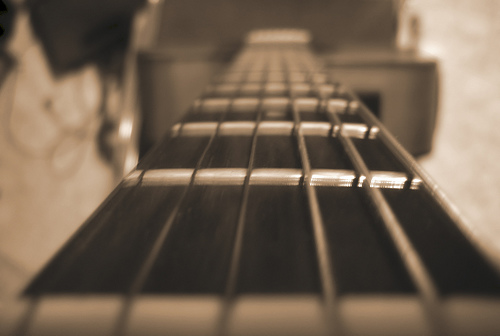guitar: (1, 20, 500, 336)
